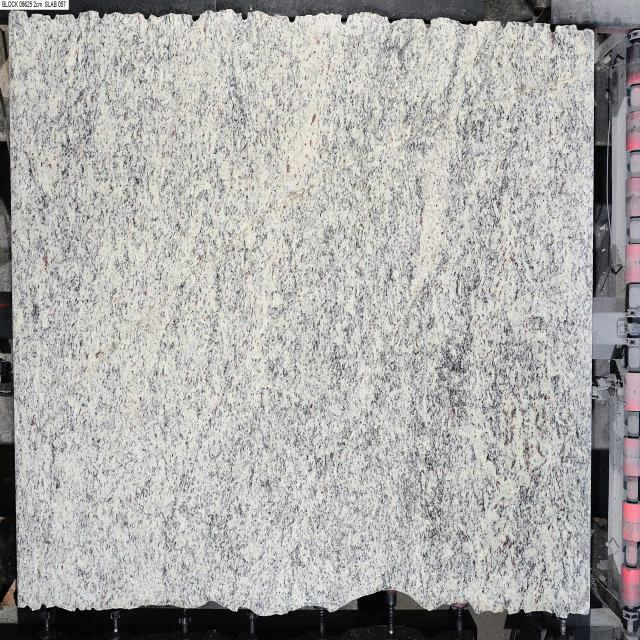chapa: (9, 11, 594, 617)
